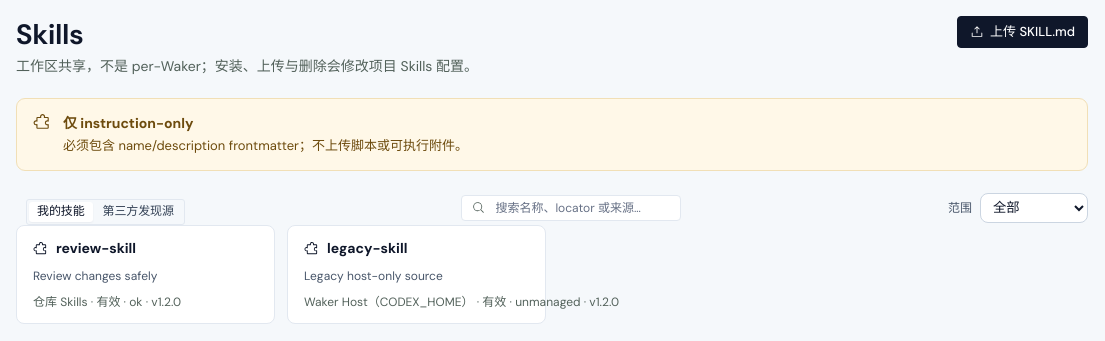
SkillsView › filters runtime, invalid and legacy inventory without claiming Waker bindings
Expected: the button "review-skill" is shown, [16,224,275,324]
Select "Waker Host" in the dropdown named "筛选已安装 Skills" at (1034, 208), box [980,192,1088,222]
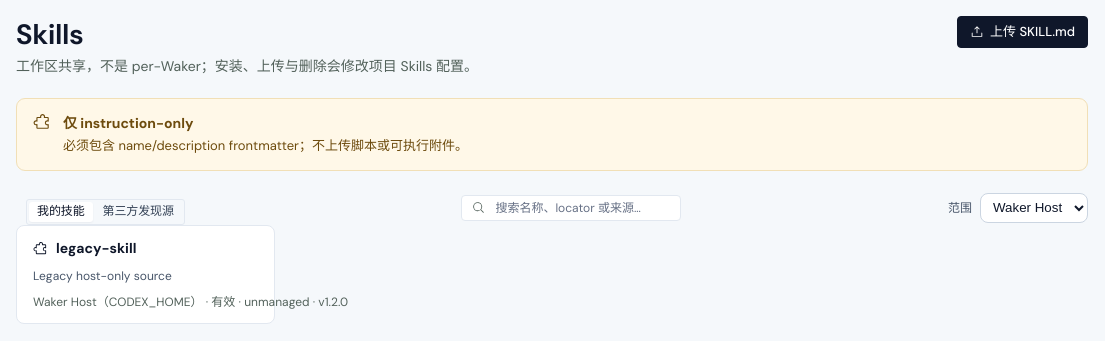
Expected: the button "legacy-skill" is shown, [16,224,275,324]
Result: the button "review-skill" is gone
